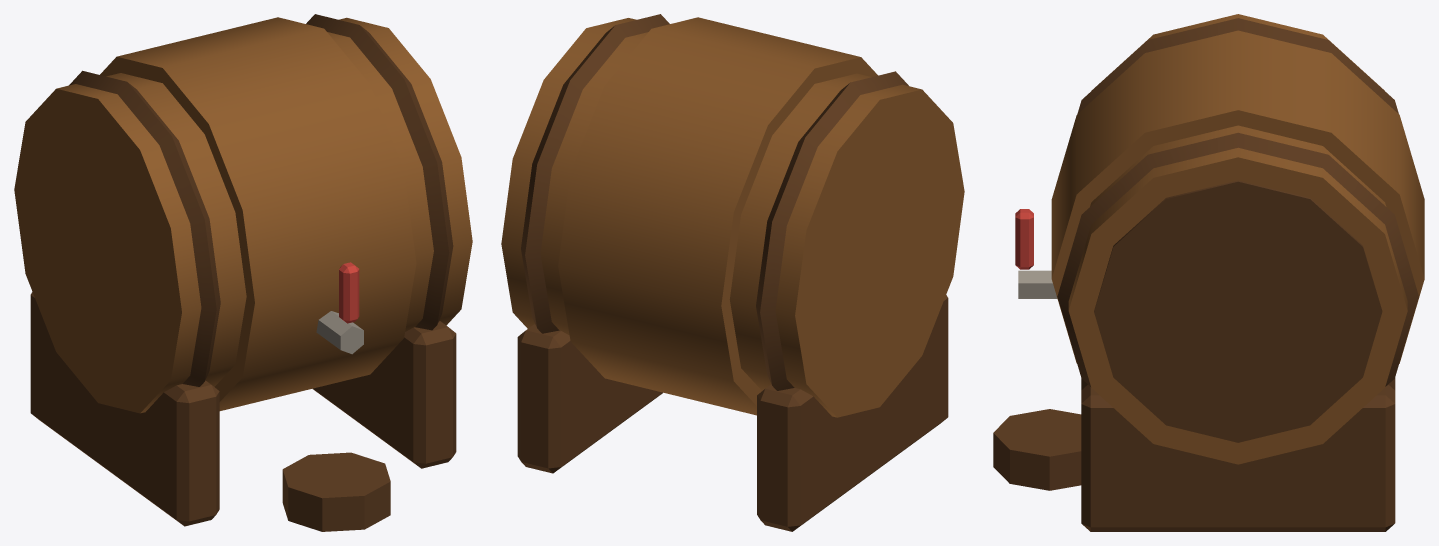
File: PR_Station_Bira_T1.fbx
3 views of the same model, side by side, from view 1: azimuth 30°, elevation 25°; view 2: azimuth 150°, elevation 25°; view 3: azimuth 270°, elevation 25° (orthographic).
Visible parts, largest first — view 1: PR_Station_Bira_T1; view 2: PR_Station_Bira_T1; view 3: PR_Station_Bira_T1.
Part boxes in pixels (x1,y1,x2,y2): PR_Station_Bira_T1: (14,14,472,531); PR_Station_Bira_T1: (501,14,964,531); PR_Station_Bira_T1: (993,14,1424,531).
Size of the model in its own units: 0.545 by 0.697 by 0.687.
